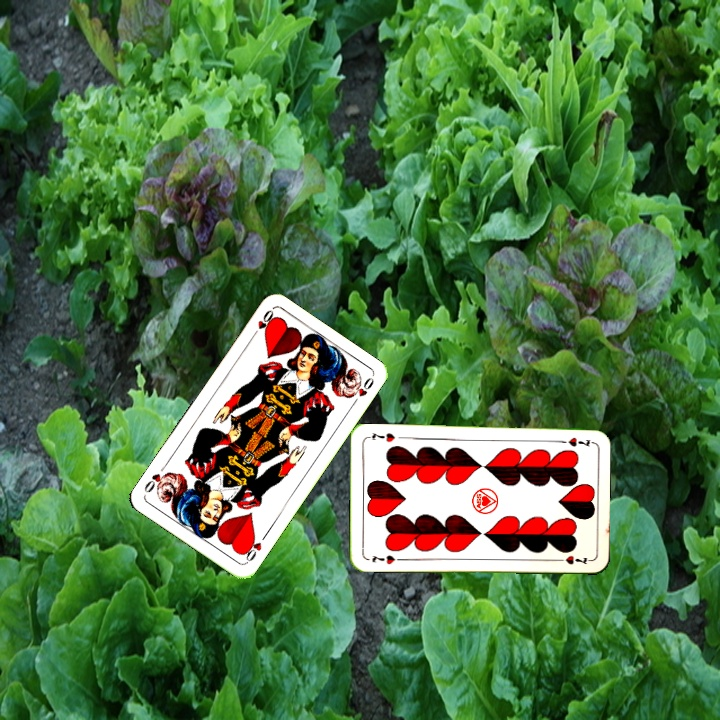H7: (554, 433, 594, 448), (368, 551, 404, 567)
HO: (239, 529, 270, 565), (247, 305, 277, 341)
